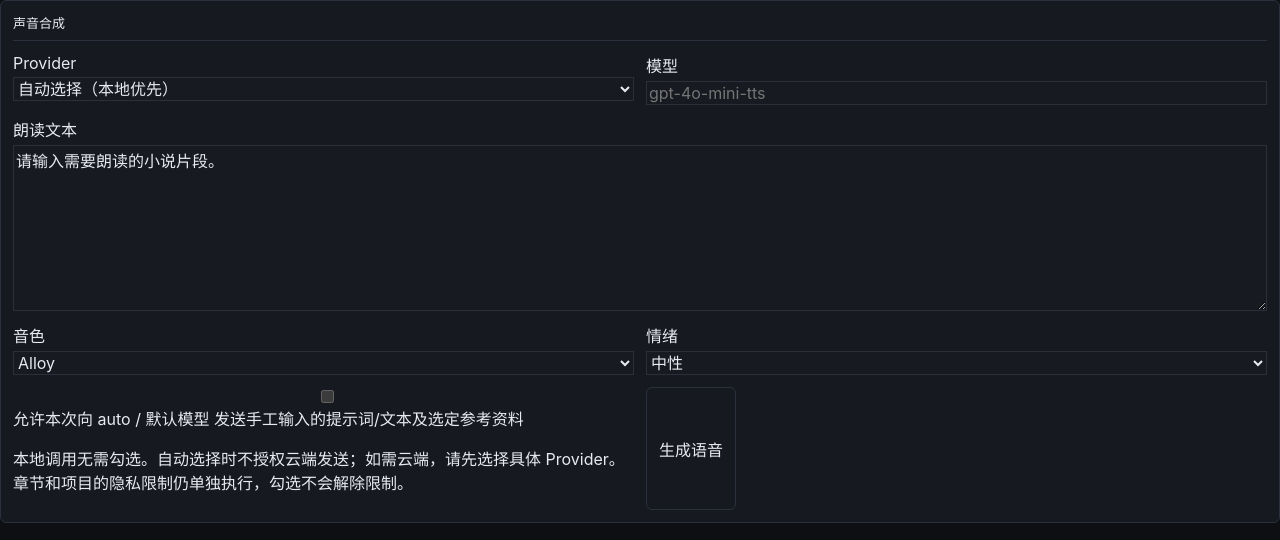
Scenario: lists configured cloud speech providers from the control center catalog
Select "自定义声音云" in the dropdown named "语音 Provider" at coordinates (324, 89), box [13, 77, 634, 101]
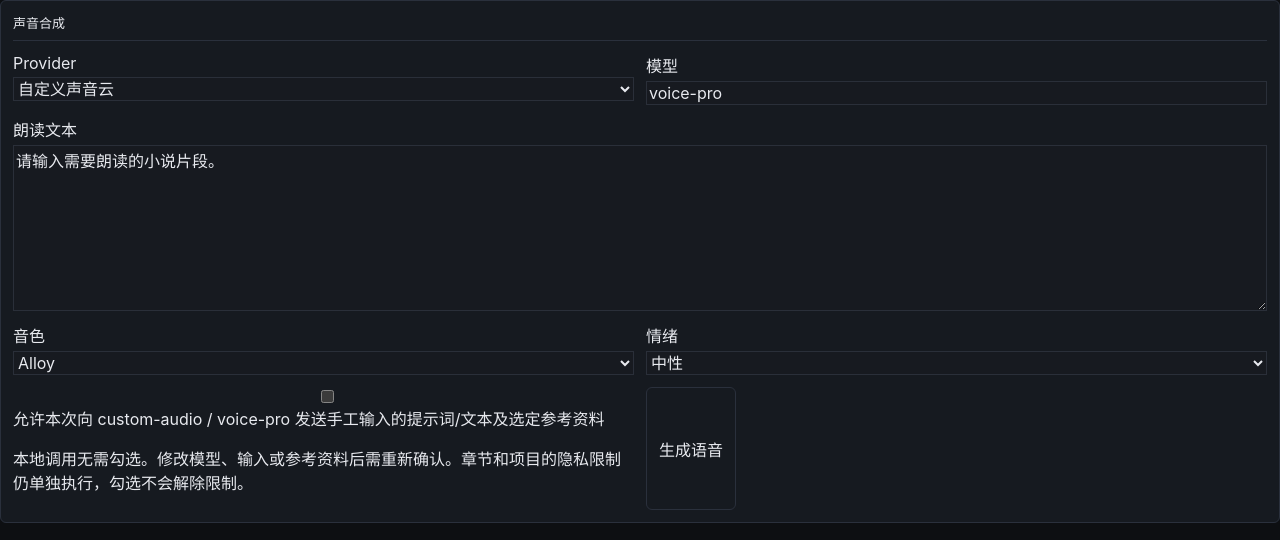
Expected: the field showing "voice-pro" holds "voice-pro", [646, 81, 1267, 105]
